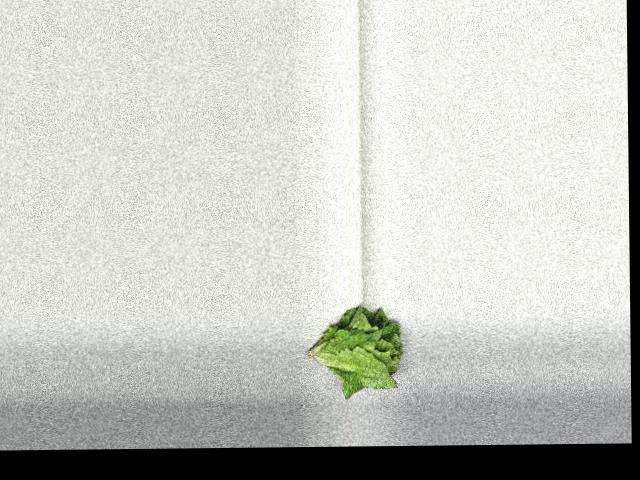lettuce: (299, 300, 407, 397)
